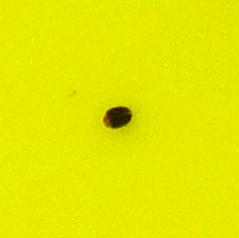Coleoptera: (100, 100, 139, 138)
